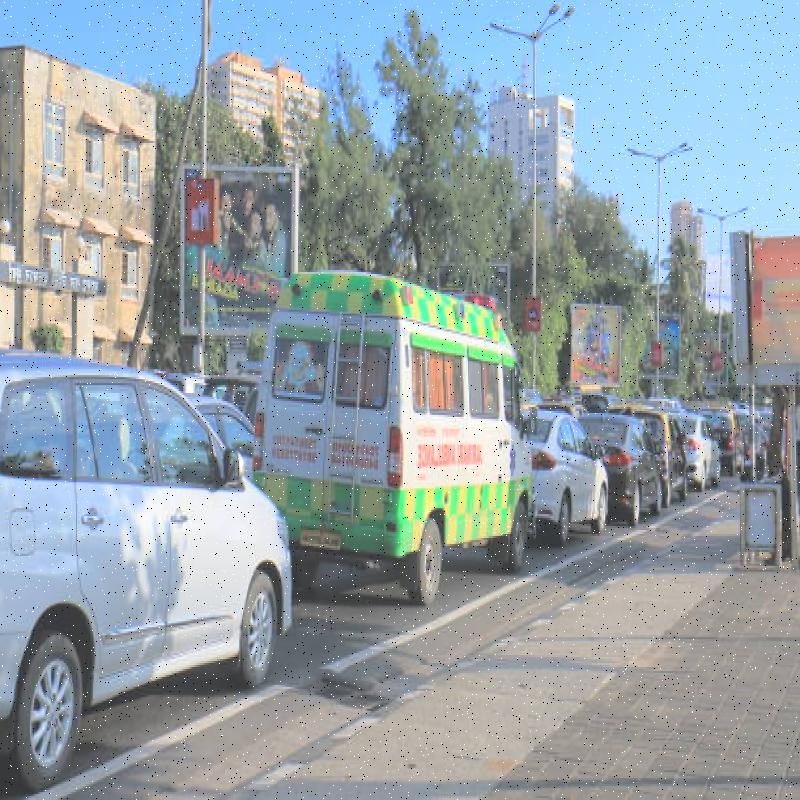ambulance: (247, 286, 554, 596)
car: (0, 441, 273, 754), (509, 411, 594, 518), (588, 423, 648, 509)
